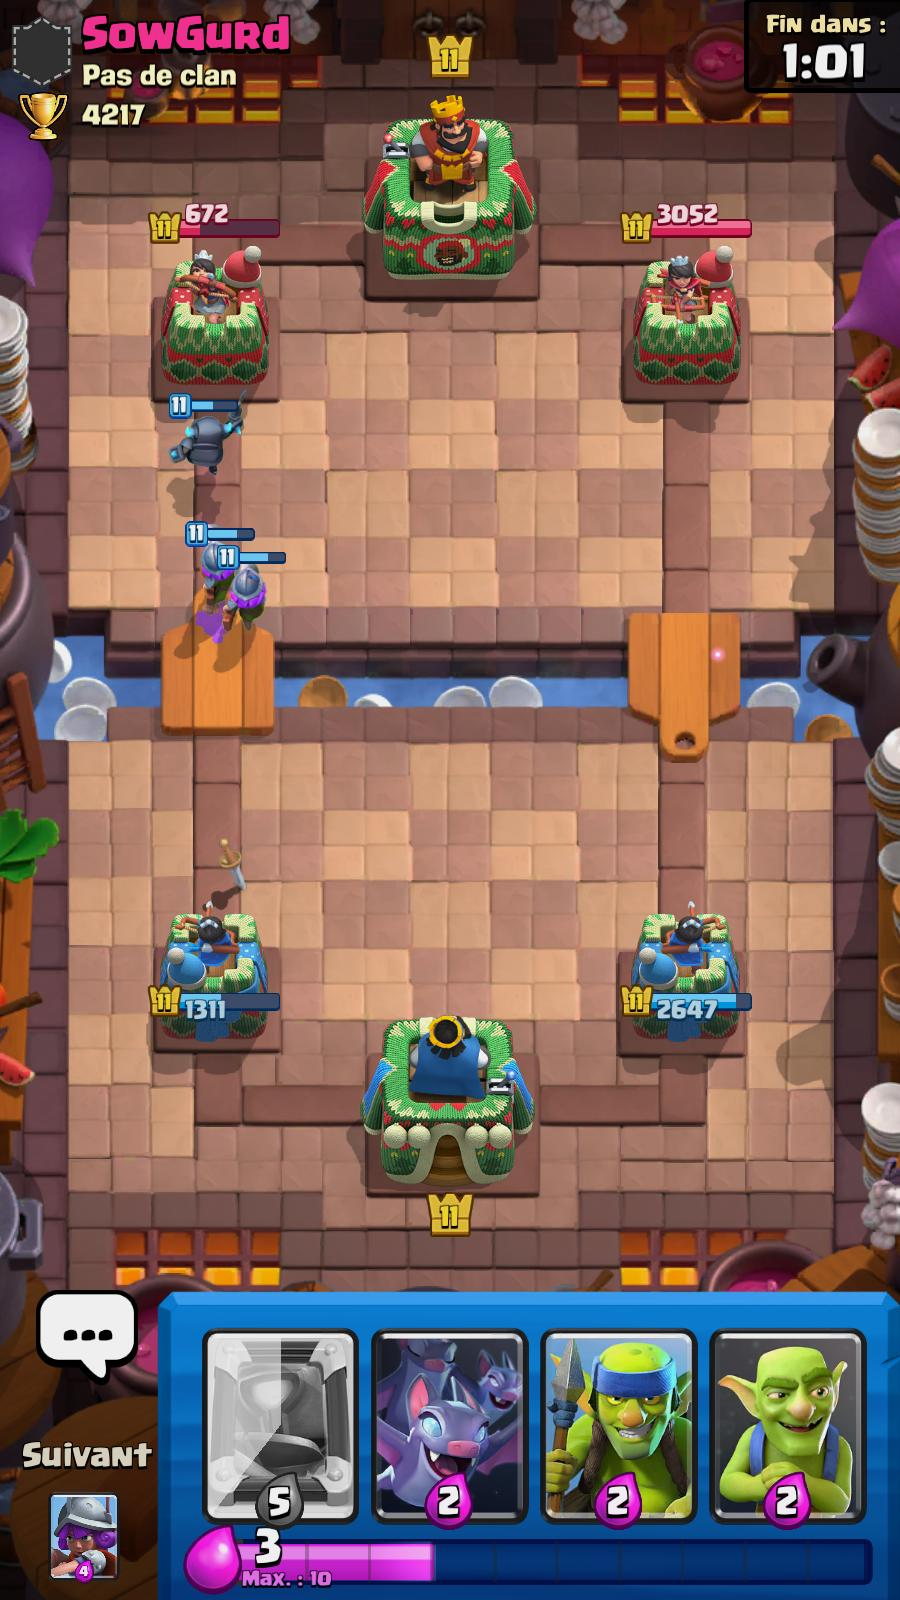mini_PEKKA: (167, 392, 247, 478)
mousquetaire: (225, 543, 276, 632), (186, 522, 236, 605)
